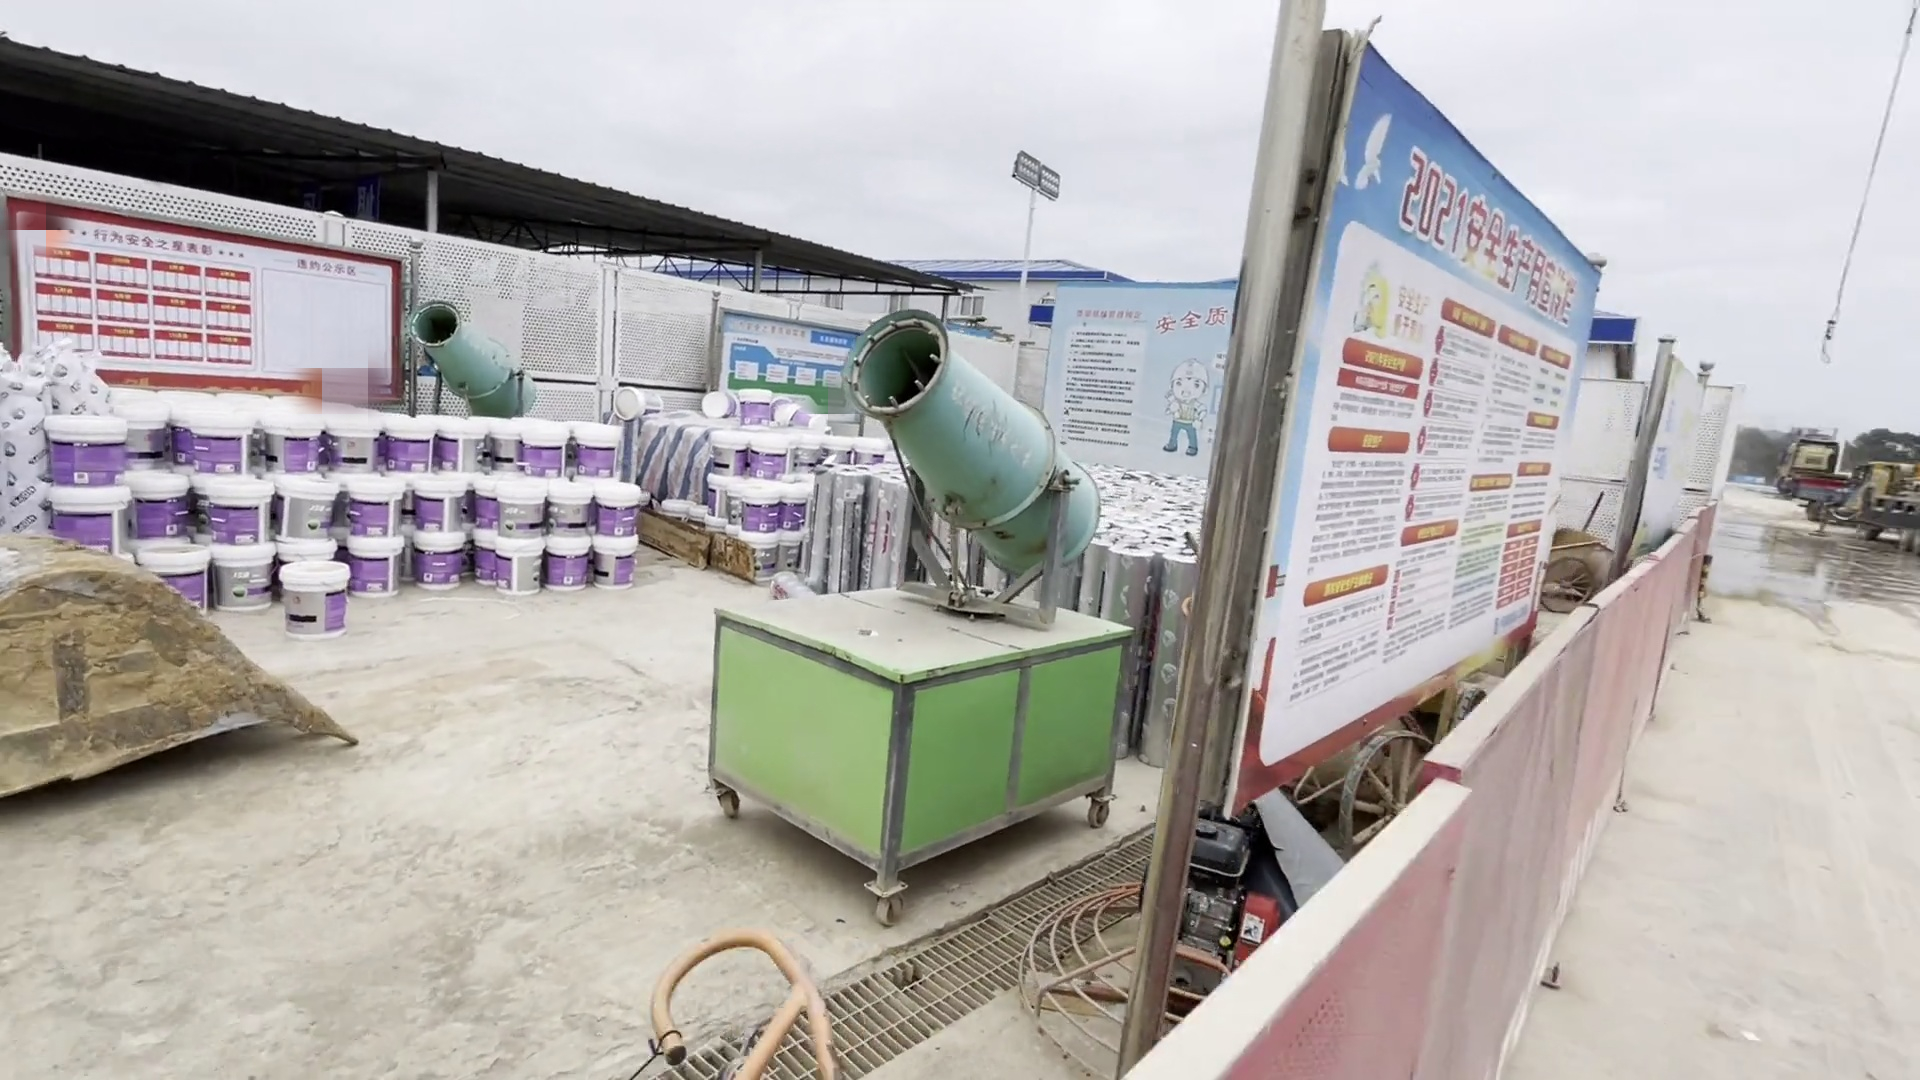fence: (1130, 505, 1712, 1080)
